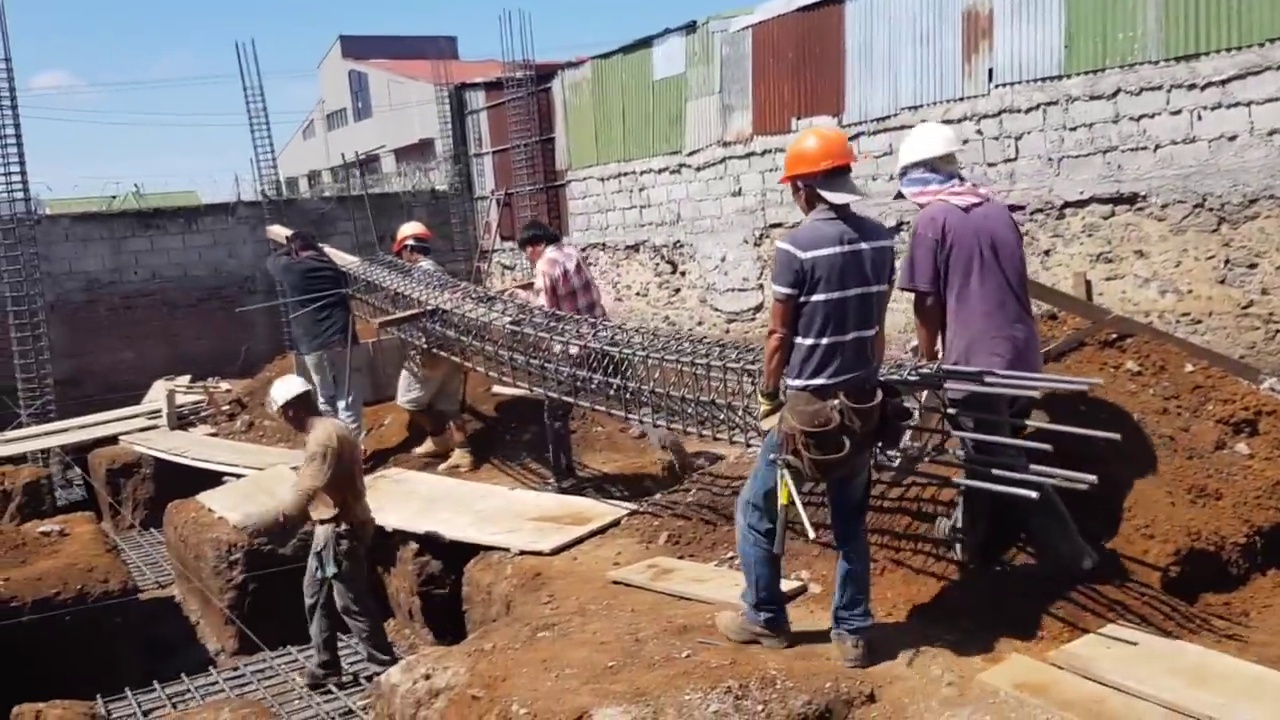helmet: (774, 122, 861, 190), (899, 120, 964, 173), (265, 375, 318, 418), (386, 220, 430, 251)
helmet-off: (512, 217, 562, 267), (276, 227, 314, 259)
helmet-on: (774, 119, 861, 225), (896, 118, 971, 209), (266, 380, 318, 435), (387, 216, 434, 264)
person: (904, 122, 1090, 608), (732, 122, 901, 646), (249, 374, 379, 686), (504, 214, 605, 485), (374, 218, 471, 468), (274, 226, 365, 417)
